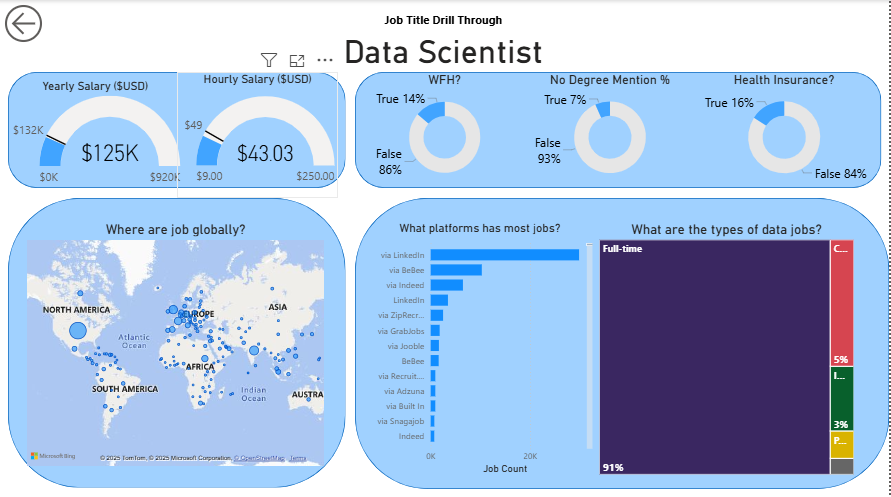

This screenshot's page, from the dashboard's own definition file:
{"tool":"powerbi","page":{"name":"Job Title Drill Through","canvas":[1280,720],"ordinal":1},"visuals":[{"type":"group","id":"g1","title":"Group 1","box":[2,103,1271.8,594.2],"z":500},{"type":"cardVisual","fields":{"Data":["Min(job_postings_flat.job_title_short)"]},"box":[361.7,0,554.9,103.1],"z":1000},{"type":"actionButton","box":[0,0,67.7,67.7],"z":2000},{"type":"gauge","title":"Yearly Salary ($USD)","fields":{"Y":["Median(job_postings_flat.salary_year_avg)"],"TargetValue":["Avg(job_postings_flat.salary_year_avg)1"],"MaxValue":["Max(job_postings_flat.salary_year_avg)"]},"box":[0,113.8,273.6,161.3],"z":3000},{"type":"donutChart","title":"WFH?","fields":{"Category":["job_postings_flat.job_work_from_home"],"Y":["CountNonNull(job_postings_flat.job_title_short)"]},"box":[523.8,103.1,232.4,167],"z":4000},{"type":"donutChart","title":"No Degree Mention %","fields":{"Category":["job_postings_flat.job_no_degree_mention"],"Y":["CountNonNull(job_postings_flat.job_title_short)"]},"box":[756,103.7,244.8,167],"z":5000},{"type":"donutChart","title":"Health Insurance?","fields":{"Category":["job_postings_flat.job_health_insurance"],"Y":["CountNonNull(job_postings_flat.job_title_short)"]},"box":[1000.1,103.1,257,167],"z":6000},{"type":"gauge","title":"Hourly Salary ($USD)","fields":{"Y":["Median(job_postings_flat.salary_hour_avg)"],"MinValue":["Min(job_postings_flat.salary_hour_avg)"],"MaxValue":["Max(job_postings_flat.salary_hour_avg)"],"TargetValue":["Avg(job_postings_flat.salary_hour_avg)1"]},"box":[254.9,103.7,231.8,181.4],"z":7000},{"type":"map","title":"Where are job globally?","fields":{"Category":["job_postings_flat.job_country"],"Size":["CountNonNull(job_postings_flat.job_title_short)"]},"box":[34.4,306.1,432.1,358.5],"z":8000},{"type":"treemap","title":"What are the types of data jobs?","fields":{"Group":["job_postings_flat.job_schedule_type"],"Values":["CountNonNull(job_postings_flat.job_schedule_type)"]},"box":[857.7,306.1,376.5,369.9],"z":9000},{"type":"barChart","title":"What platforms has most jobs?","fields":{"Category":["job_postings_flat.job_via"],"Y":["CountNonNull(job_postings_flat.job_title_short)"]},"box":[498.9,305.7,357.8,369.6],"z":10000},{"type":"shape","box":[2,103,491,167],"z":15125,"group":"g1"},{"type":"shape","box":[499.6,103,774.2,167],"z":15250,"group":"g1"},{"type":"shape","box":[2.6,276.5,492.7,420.7],"z":15500,"group":"g1"},{"type":"shape","box":[500.9,276.5,772.6,420.7],"z":16250,"group":"g1"}]}

Visuals, with their boxes in screenshot pixels (x1, y1, x2, y2), scaled from the page's 1280x720 canvas onto the 891x497 screenshot:
"Group 1" group: x1=1 y1=71 x2=887 y2=481
cardVisual - Min(job_postings_flat.job_title_short): x1=252 y1=0 x2=638 y2=71
actionButton: x1=0 y1=0 x2=47 y2=47
"Yearly Salary ($USD)" gauge: x1=0 y1=79 x2=190 y2=190
"WFH?" donutChart: x1=365 y1=71 x2=526 y2=186
"No Degree Mention %" donutChart: x1=526 y1=72 x2=697 y2=187
"Health Insurance?" donutChart: x1=696 y1=71 x2=875 y2=186
"Hourly Salary ($USD)" gauge: x1=177 y1=72 x2=339 y2=197
"Where are job globally?" map: x1=24 y1=211 x2=325 y2=459
"What are the types of data jobs?" treemap: x1=597 y1=211 x2=859 y2=467
"What platforms has most jobs?" barChart: x1=347 y1=211 x2=596 y2=466
shape: x1=1 y1=71 x2=343 y2=186
shape: x1=348 y1=71 x2=887 y2=186
shape: x1=2 y1=191 x2=345 y2=481
shape: x1=349 y1=191 x2=886 y2=481
